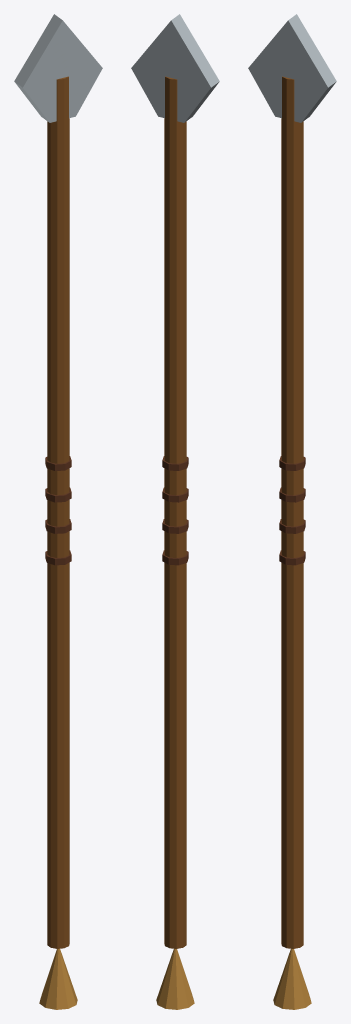
File: dienekes-dory.glb
The picture shows the model from 3 angles, left to right: view 1: azimuth 30°, elevation 25°; view 2: azimuth 150°, elevation 25°; view 3: azimuth 330°, elevation 25°; orthographic projection.
Parts seen in each view (by area): view 1: Dory_Shaft, Dory_Leaf, Dory_Sauroter; view 2: Dory_Shaft, Dory_Leaf, Dory_Sauroter; view 3: Dory_Shaft, Dory_Leaf, Dory_Sauroter.
Part boxes in pixels (<box>): Dory_Shaft: <box>47,76,69,948</box>; Dory_Leaf: <box>14,14,102,122</box>; Dory_Sauroter: <box>39,948,77,1009</box>; Dory_Shaft: <box>164,76,186,948</box>; Dory_Leaf: <box>131,14,219,122</box>; Dory_Sauroter: <box>156,948,194,1009</box>; Dory_Shaft: <box>281,76,303,948</box>; Dory_Leaf: <box>248,14,336,122</box>; Dory_Sauroter: <box>273,948,311,1009</box>.
Bounding box in the file's own units: 16 × 188 × 6.8.
